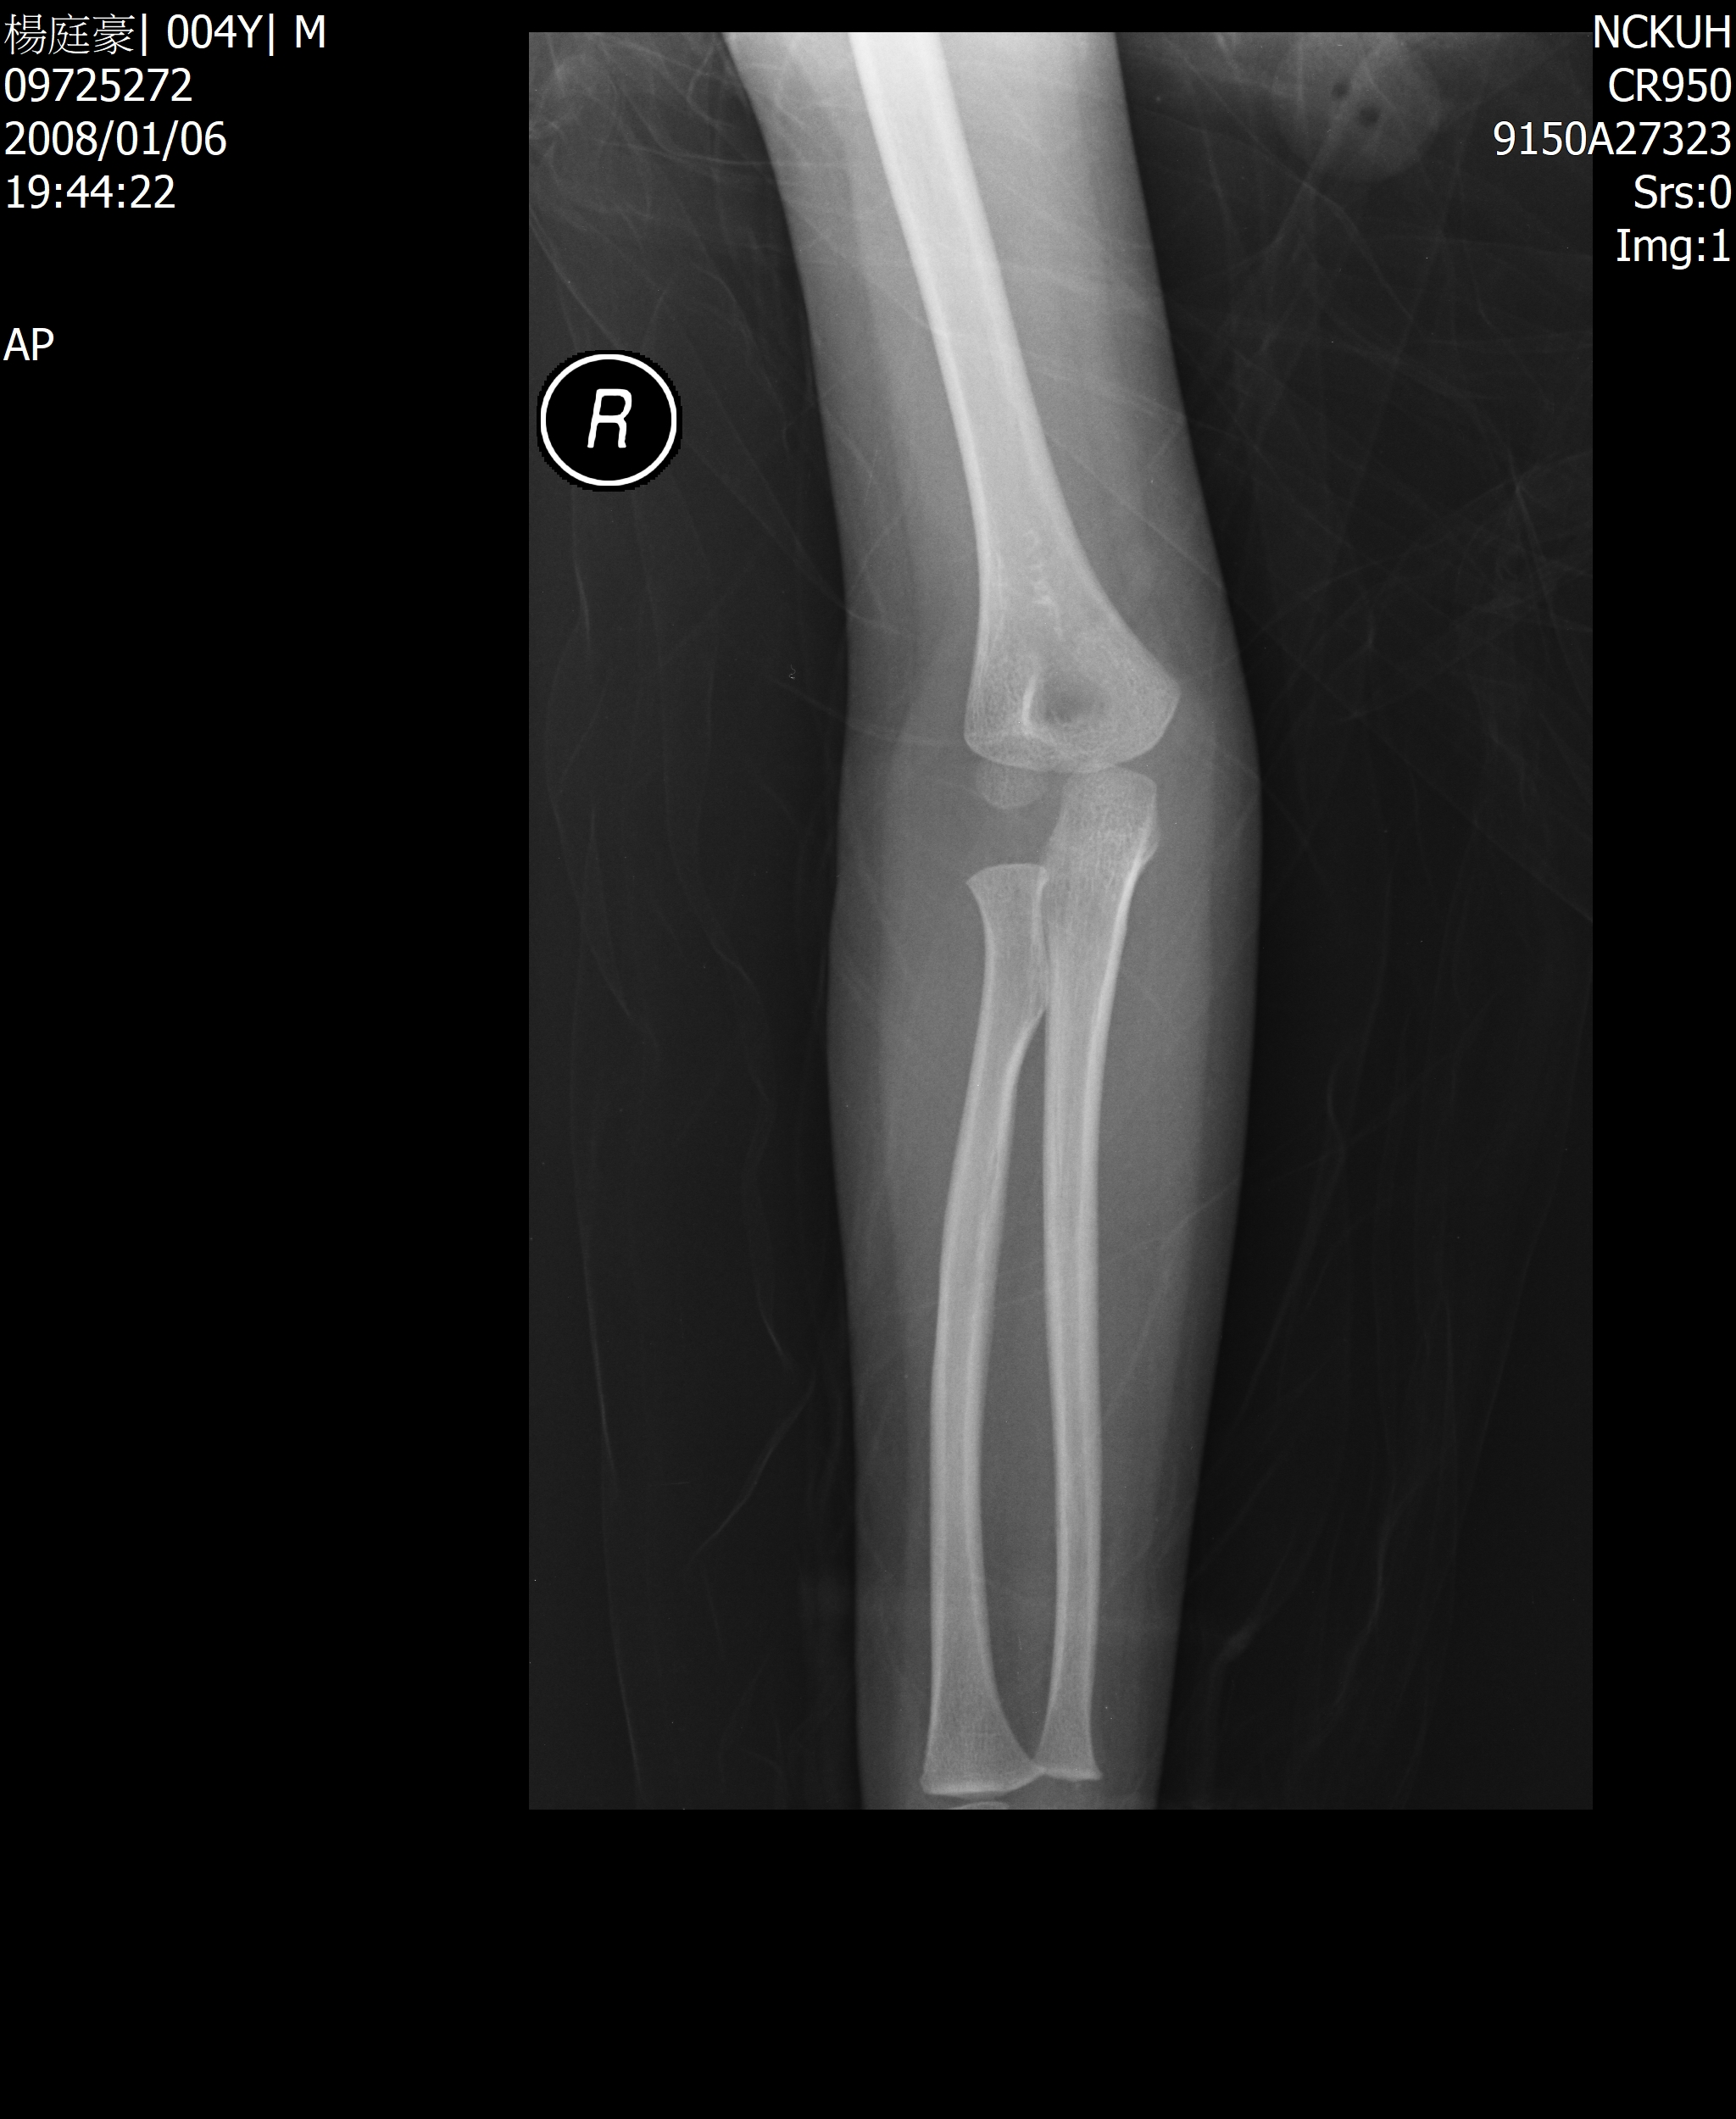Normal: (813, 532, 1366, 1052)
